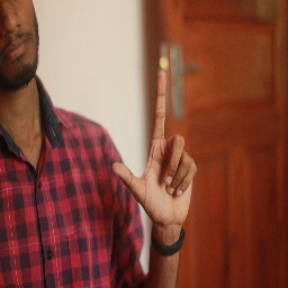L: (109, 72, 205, 225)
